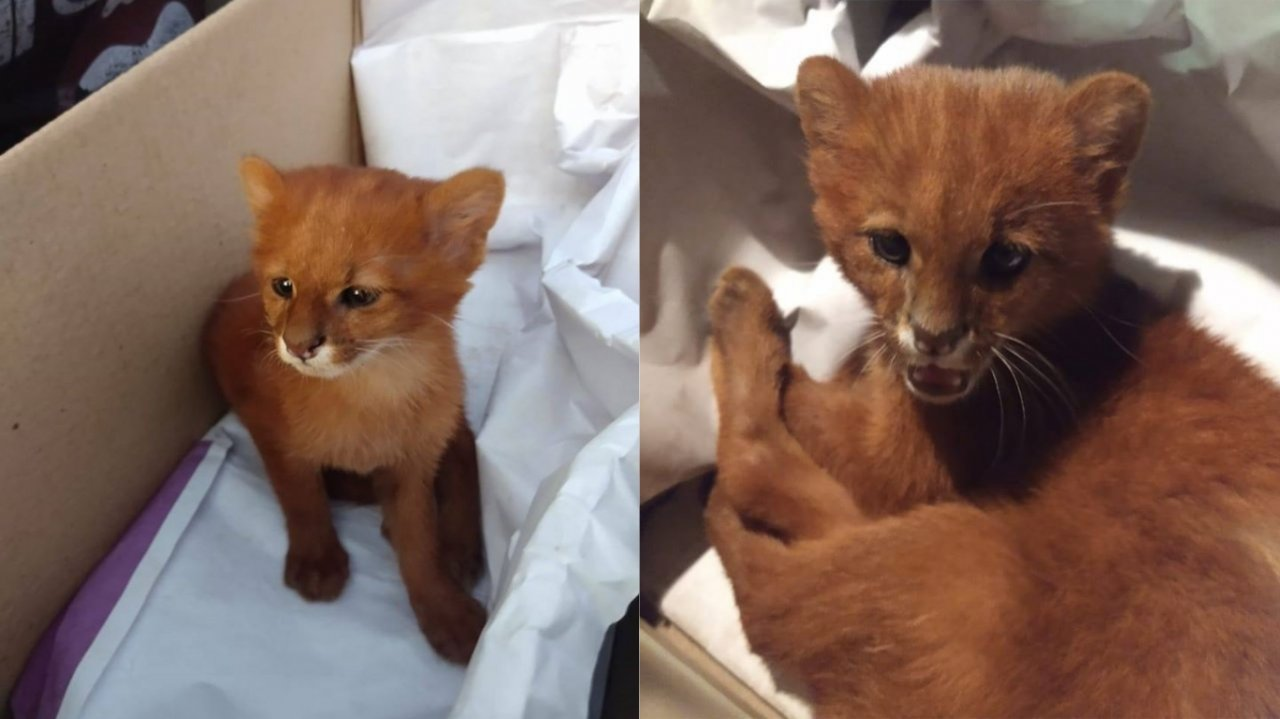Jaguarundi: (713, 38, 1246, 689), (189, 137, 528, 674)
